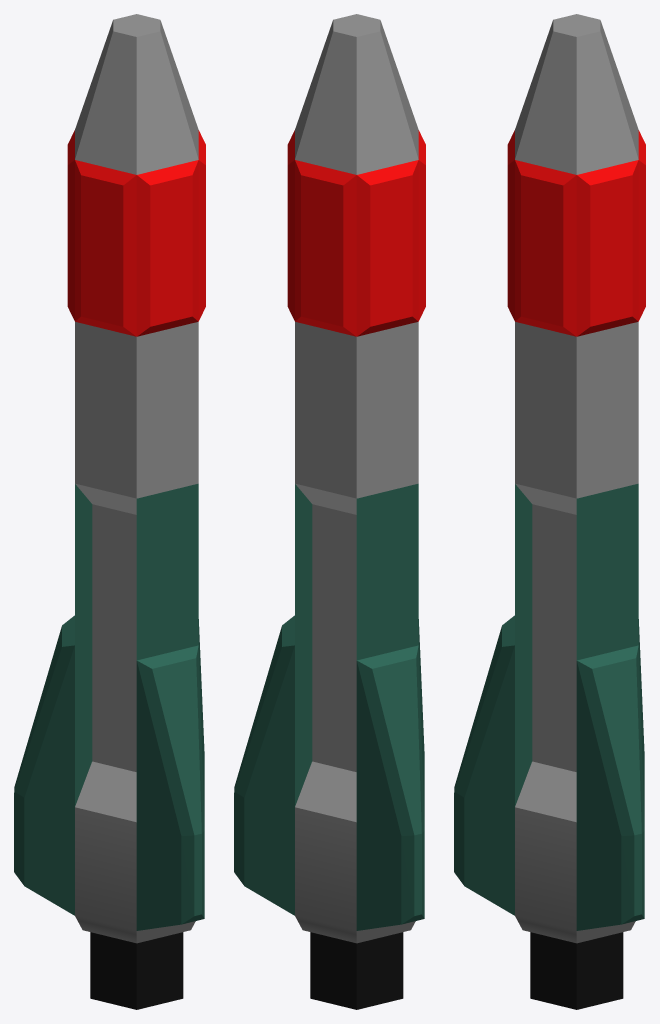
Rendered from Small ROcket.FBX.
The picture shows the model from 3 angles, left to right: view 1: azimuth 30°, elevation 25°; view 2: azimuth 150°, elevation 25°; view 3: azimuth 270°, elevation 25°; orthographic projection.
Visible parts, largest first — view 1: Rocket; view 2: Rocket; view 3: Rocket.
Boxes of the visible parts, left/top/right/bottom form: Rocket: left=14, top=14, right=205, bottom=1009; Rocket: left=234, top=14, right=425, bottom=1009; Rocket: left=454, top=14, right=645, bottom=1009.
Bounding box in the file's own units: 0.1519 × 0.7429 × 0.1344.
